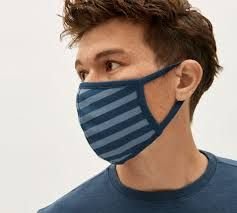with-mask: (68, 17, 204, 169)
